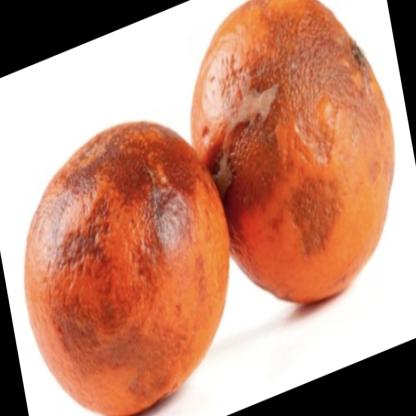rotten: (192, 1, 397, 304), (25, 120, 226, 416)
